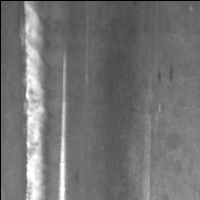scratches: (18, 1, 52, 200), (56, 50, 72, 200)
